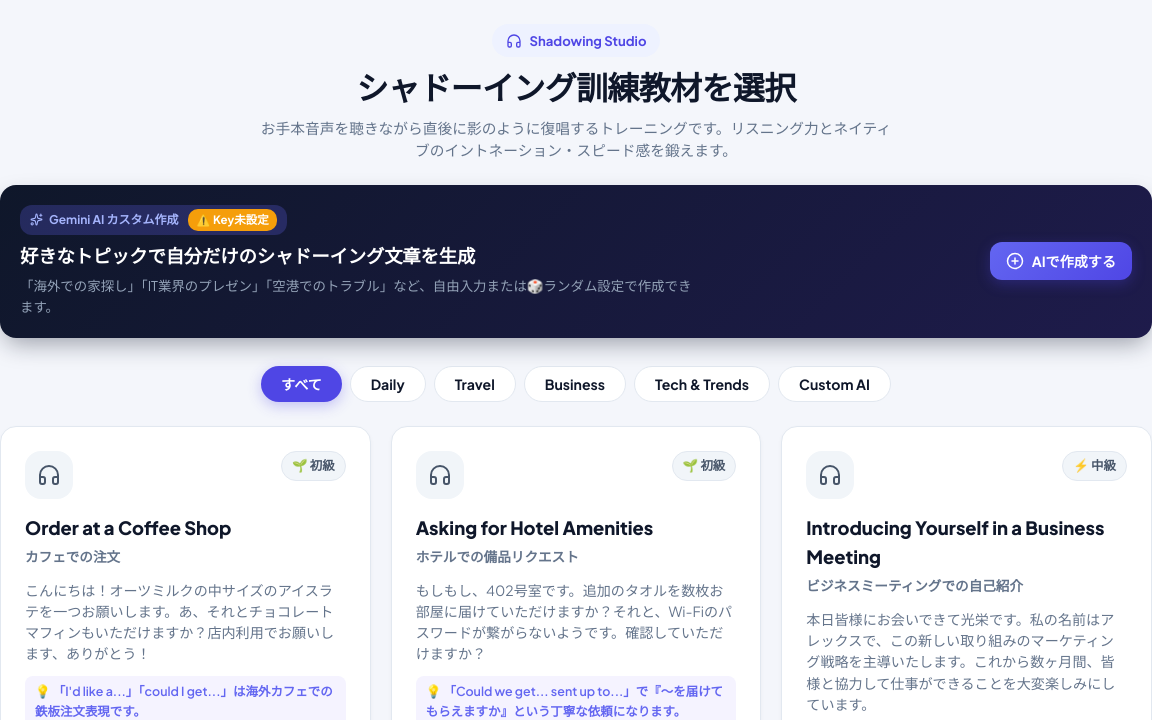
Test case: ShadowingSelector component › populates topic input when random button or topic chips are clicked
The image size is (1152, 720).
# Open custom AI form
Click the button "AIで作成する". click: (1061, 261)
box: [990,242,1132,280]
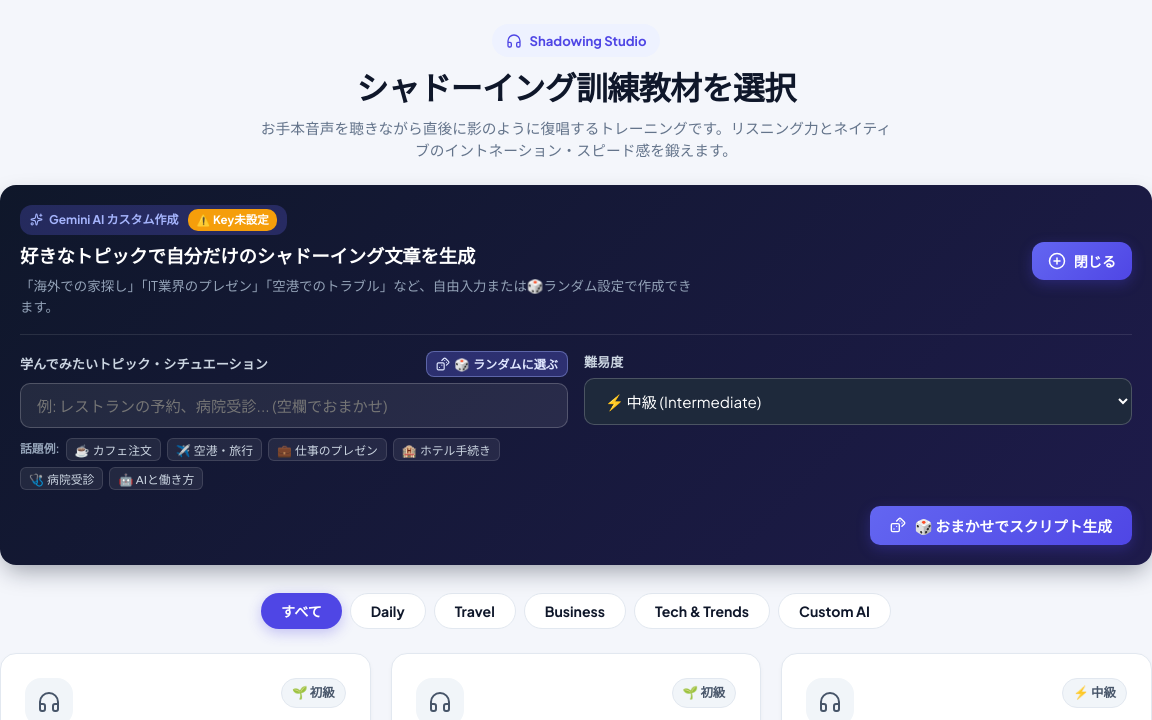
Expected: the field with placeholder "例: レストランの予約、病院受診... (空欄でおまかせ)" is empty, [20,383,568,428]
# Click popular topic chip
Click the button "☕ カフェ注文". click: (113, 449)
box: [66,438,161,461]
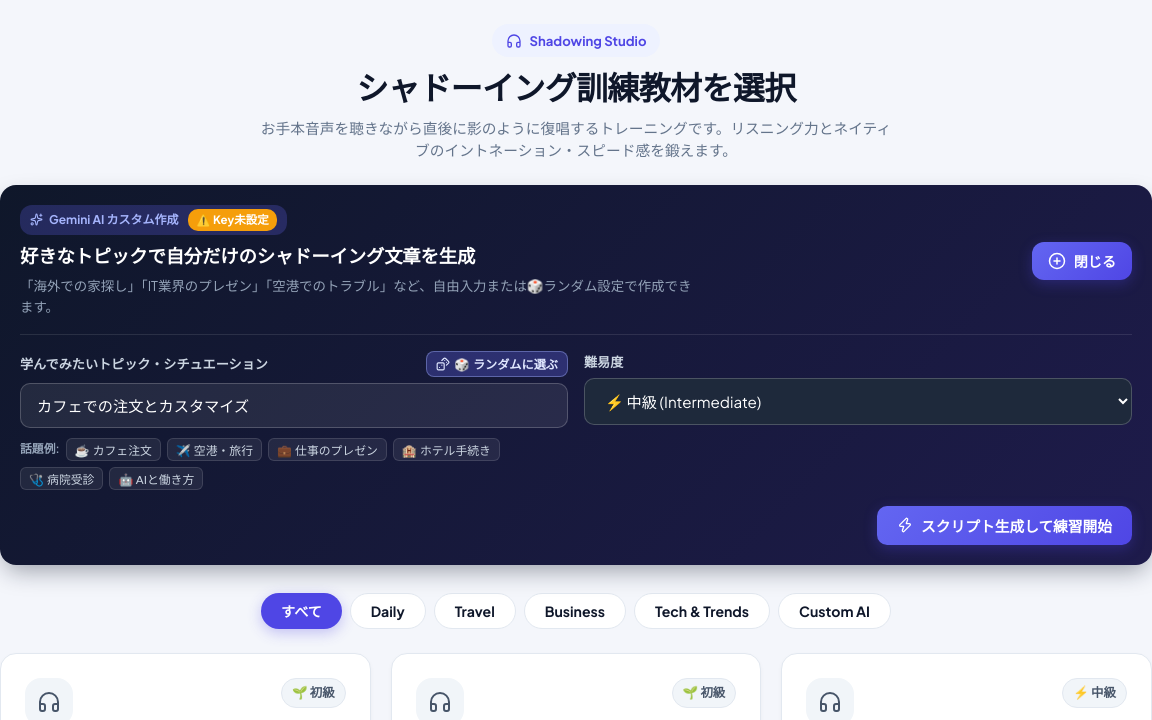
Expected: the field with placeholder "例: レストランの予約、病院受診... (空欄でおまかせ)" holds "カフェでの注文とカスタマイズ", [20,383,568,428]
# Click random button
Click the button "🎲 ランダムに選ぶ". click: (497, 364)
box: [426,351,568,377]
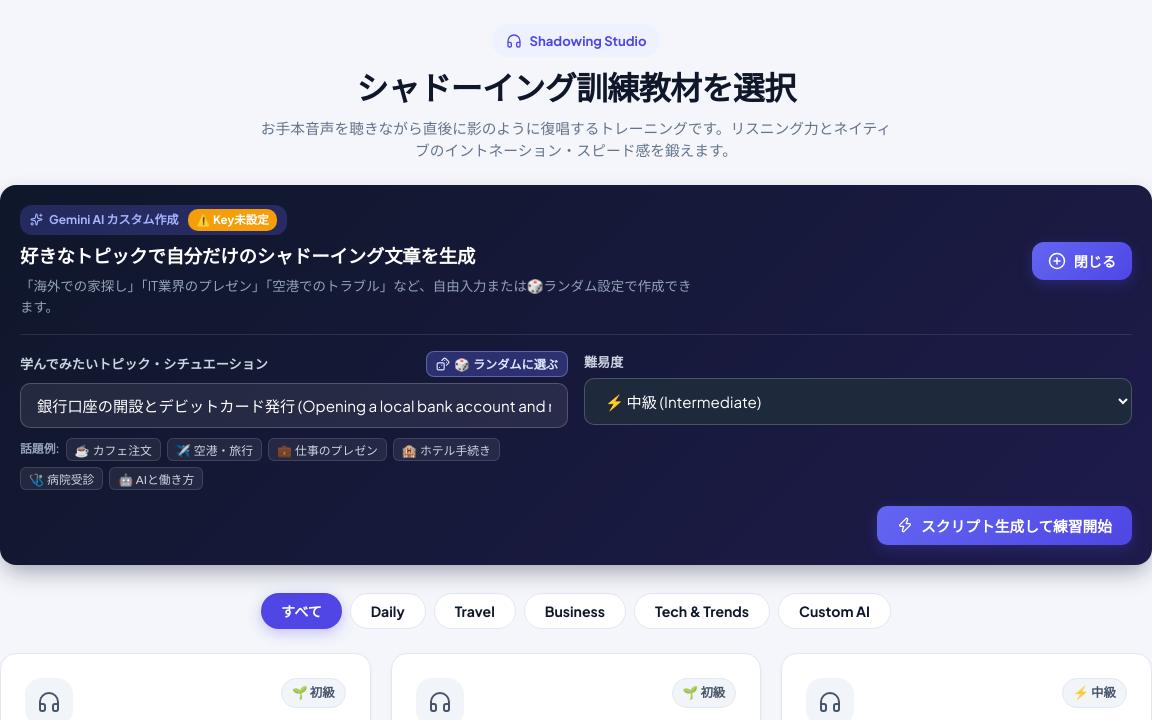
Expected: the field with placeholder "例: レストランの予約、病院受診... (空欄でおまかせ)" is not empty, [20,383,568,428]
